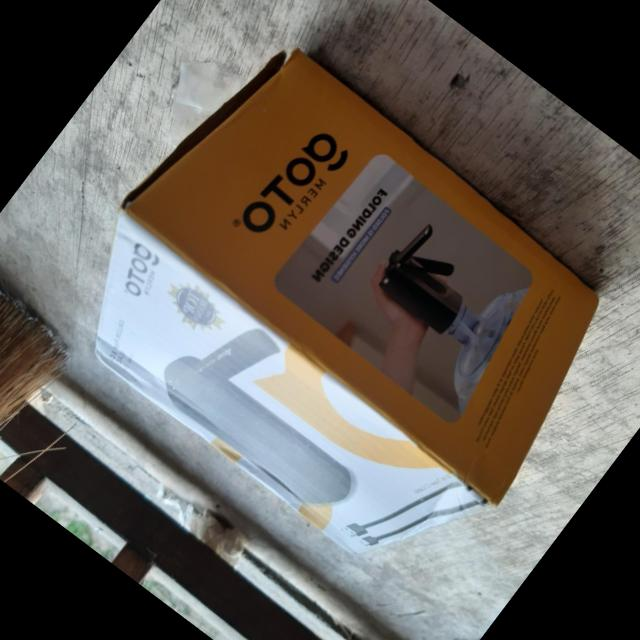Kardus: (33, 18, 640, 609)
